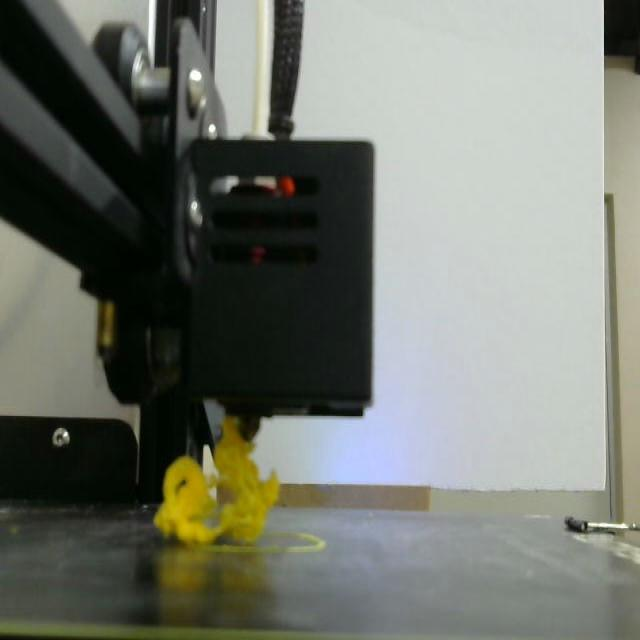spaghetti: (149, 412, 289, 548)
